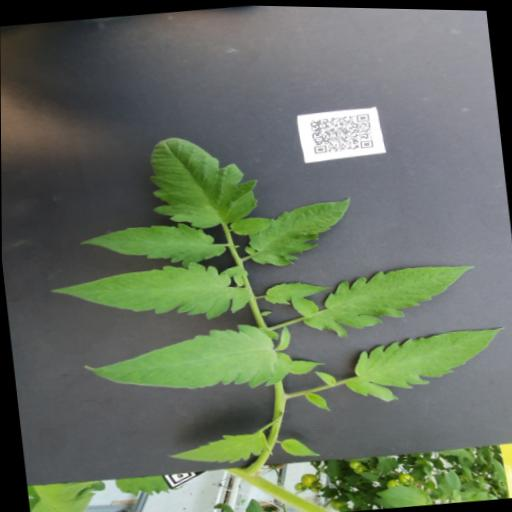Healthy: (80, 316, 280, 412), (46, 251, 253, 336), (287, 255, 480, 343), (339, 320, 510, 412), (144, 126, 262, 233), (75, 214, 227, 277), (243, 192, 356, 269), (162, 425, 273, 472), (262, 275, 335, 305), (227, 212, 274, 236)
